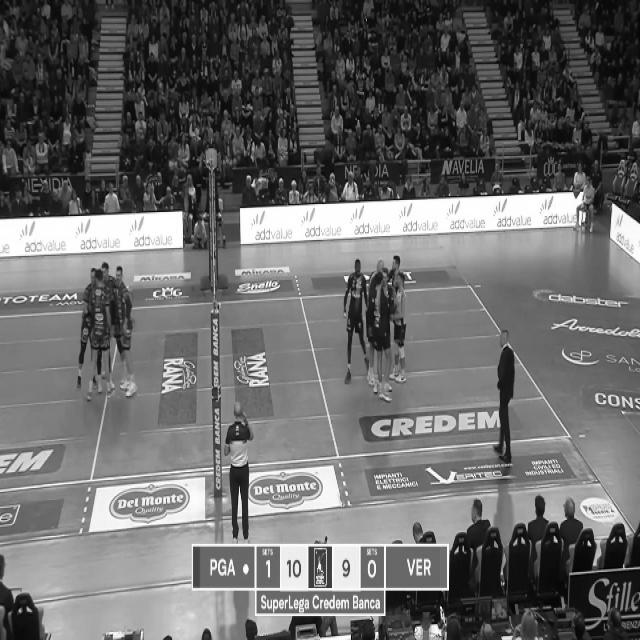volleyball court: (0, 281, 572, 491)
